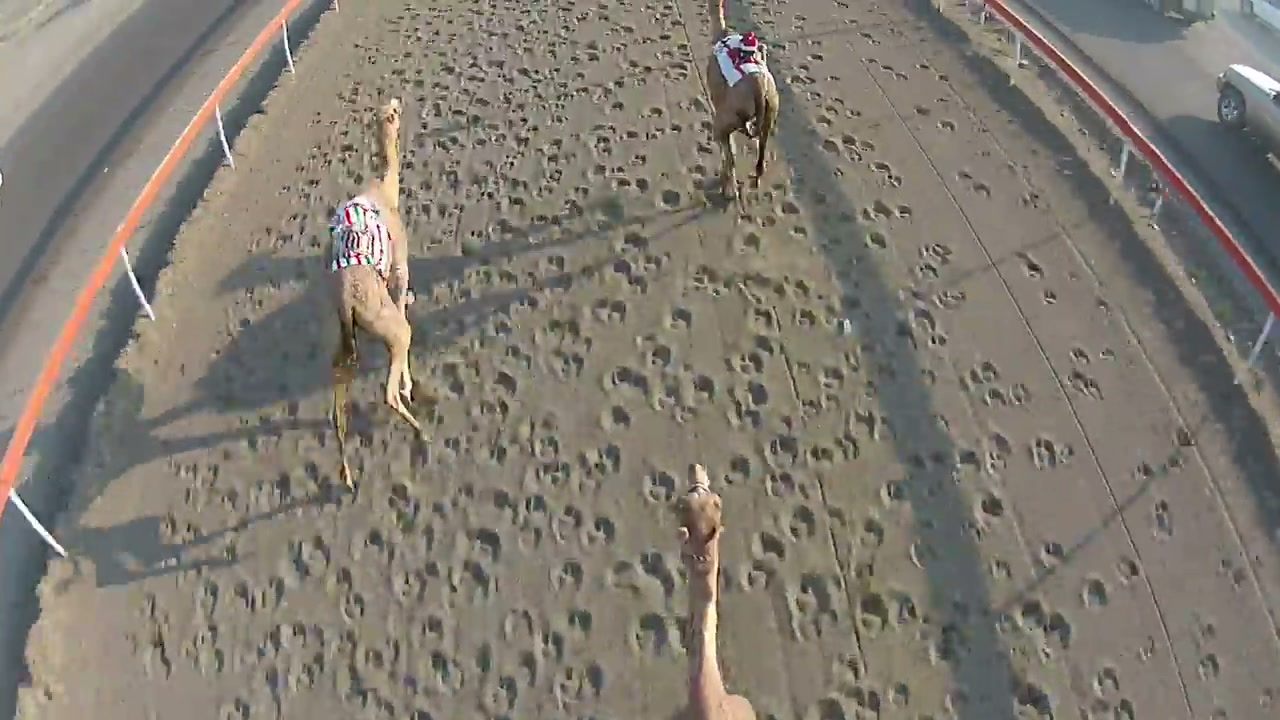animal_footprint: (766, 69, 1093, 719), (266, 120, 604, 709), (608, 44, 806, 695)
